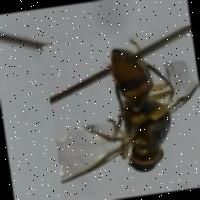Oriental-fruit-fly: (41, 23, 200, 198)
